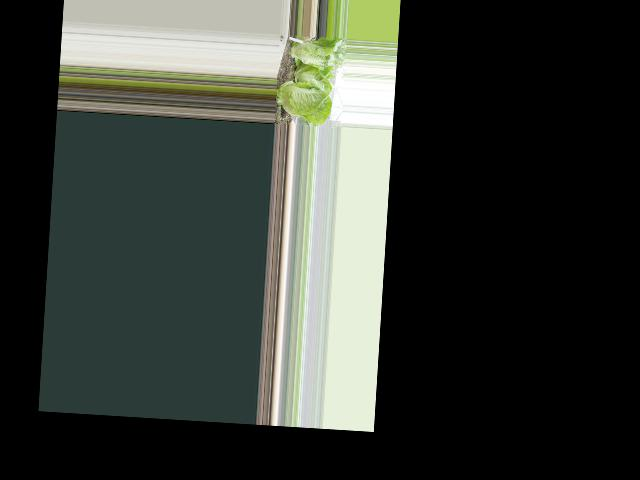lettuce: (282, 38, 341, 71)
